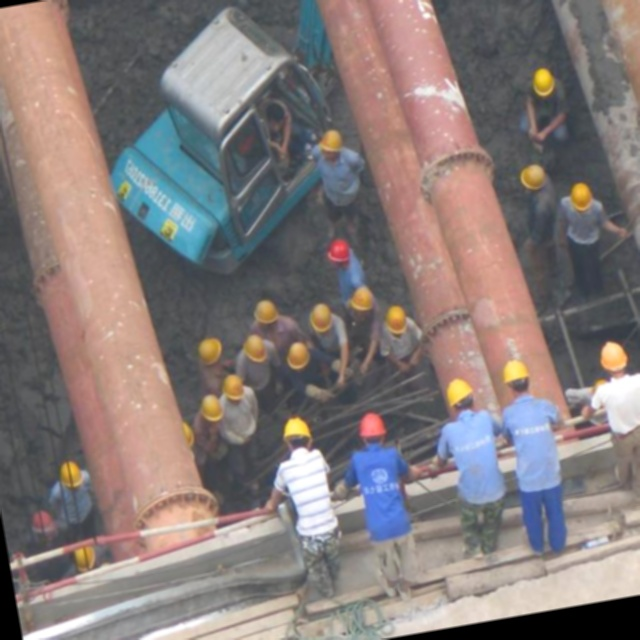Con_Casco: (440, 375, 476, 416), (353, 411, 388, 449), (280, 413, 314, 452), (500, 357, 533, 396), (316, 130, 346, 170), (381, 303, 409, 339)
Sin_Chaleco: (501, 397, 567, 495), (438, 411, 505, 503), (353, 444, 412, 541), (278, 448, 339, 540)
